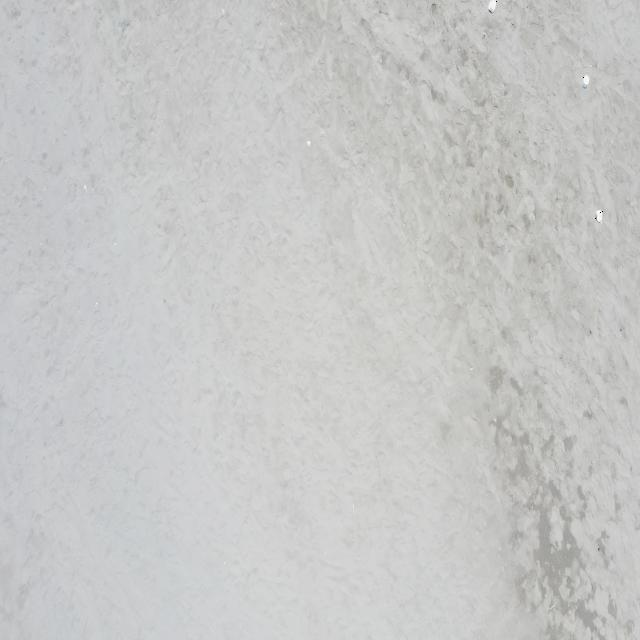take-away-containers: (582, 73, 590, 89), (595, 208, 603, 223), (489, 0, 497, 12)
